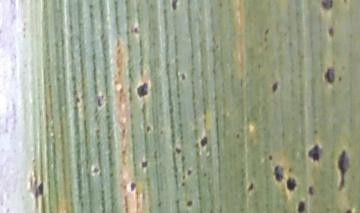tarspot: (336, 148, 350, 190), (305, 143, 326, 162), (134, 79, 151, 99), (323, 65, 338, 86), (273, 162, 285, 185), (284, 174, 298, 193), (316, 1, 336, 11), (34, 181, 46, 197), (296, 198, 308, 213), (325, 23, 337, 38), (268, 80, 280, 94), (172, 144, 184, 158), (305, 184, 317, 197), (199, 133, 208, 149), (170, 1, 180, 15), (129, 180, 138, 195), (184, 198, 196, 209), (247, 181, 256, 195), (139, 159, 151, 169), (179, 70, 188, 83), (90, 166, 101, 176), (185, 168, 194, 177), (144, 125, 154, 133)
